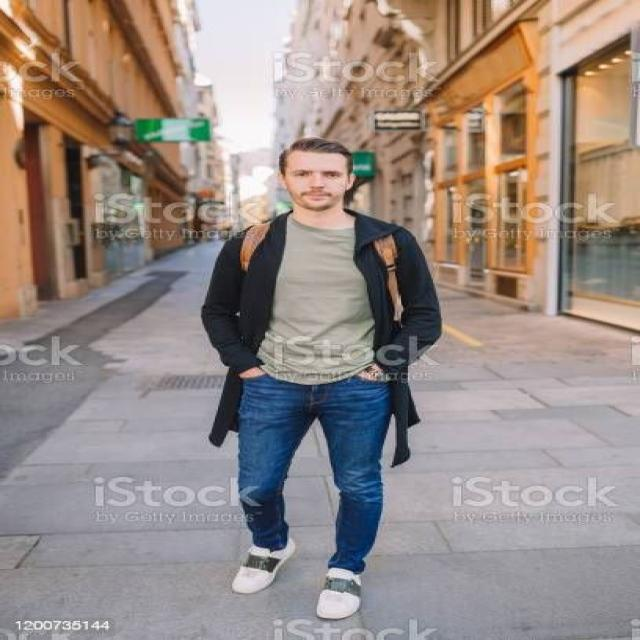jovem: (190, 138, 444, 628)
